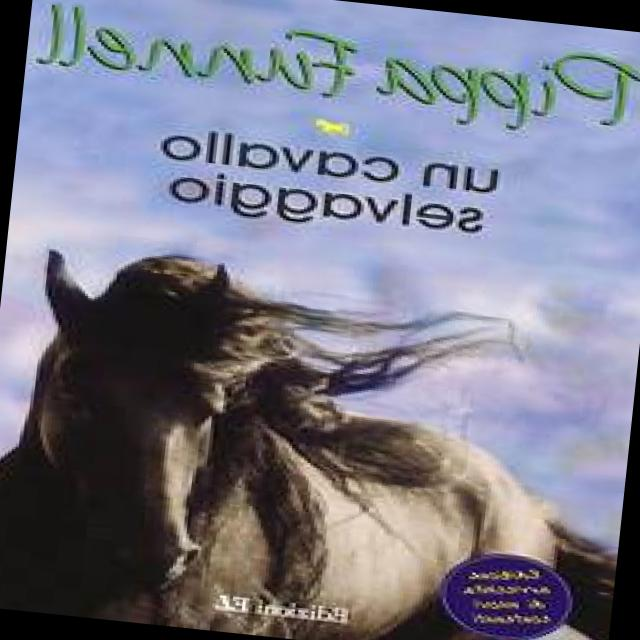animal: (0, 208, 624, 640)
